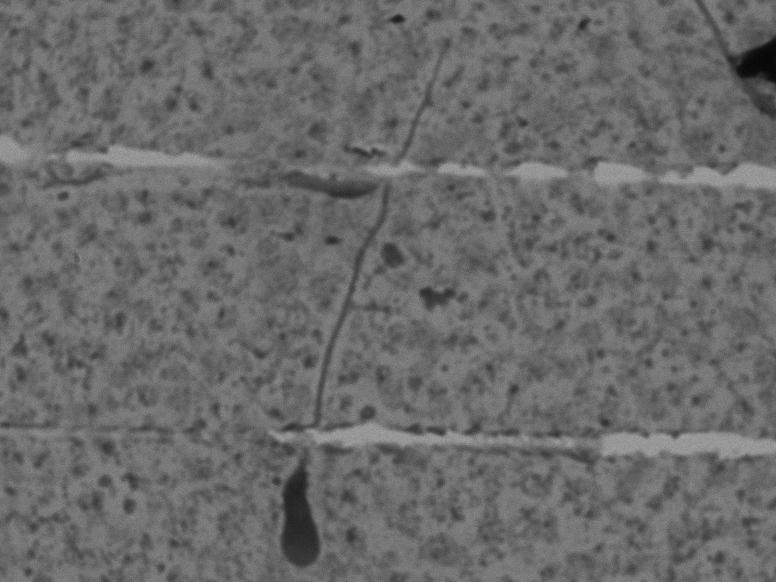Abnormal: (247, 28, 477, 569)
